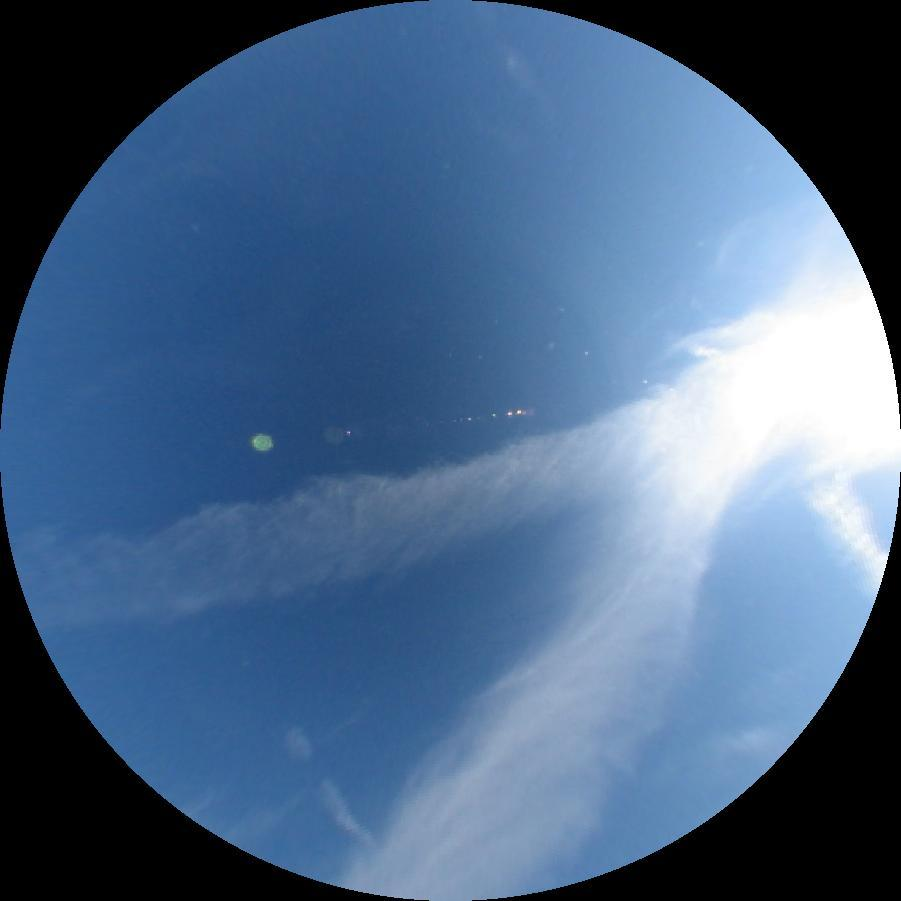contrail veryold: (11, 382, 701, 651)
unknow: (280, 723, 380, 858)
